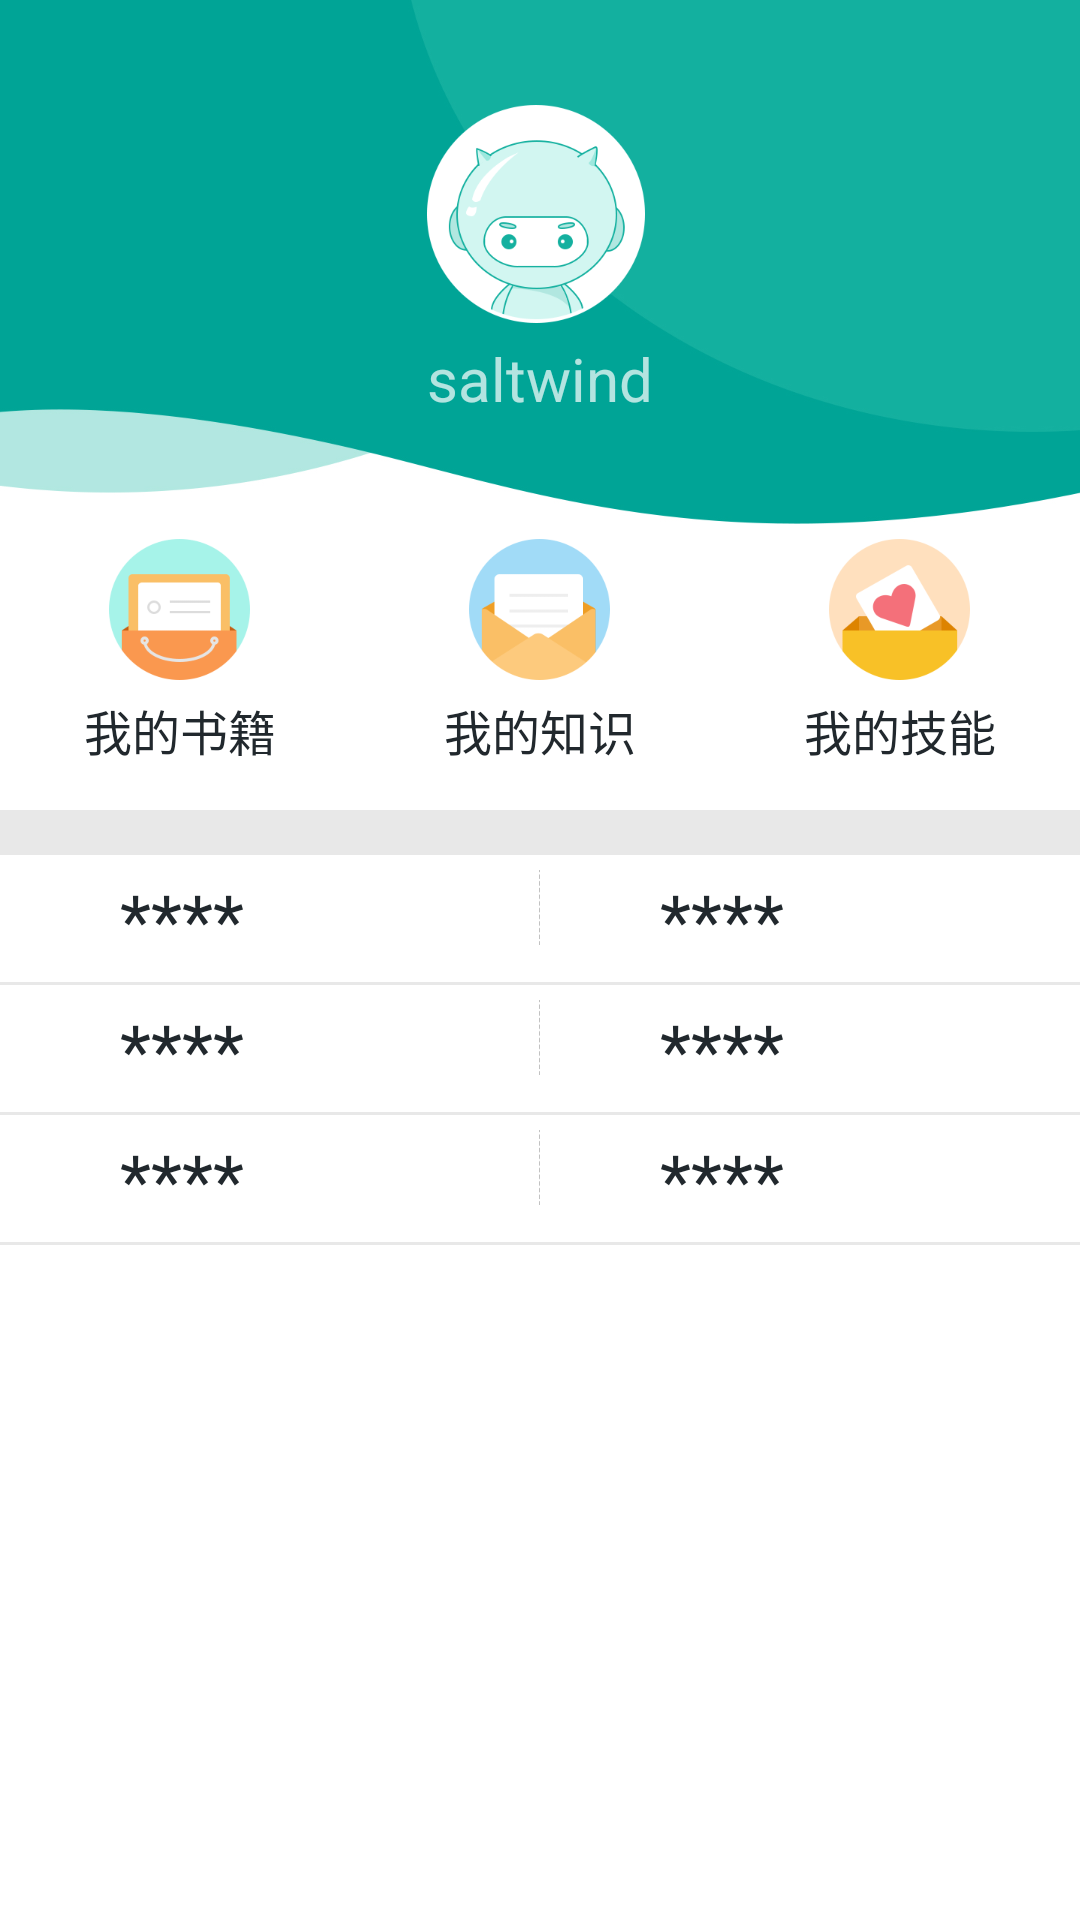

Where to tap for icons on this 1080px x 1920px app screen, as (x=x, y=y):
me myhead: (x=536, y=214)
